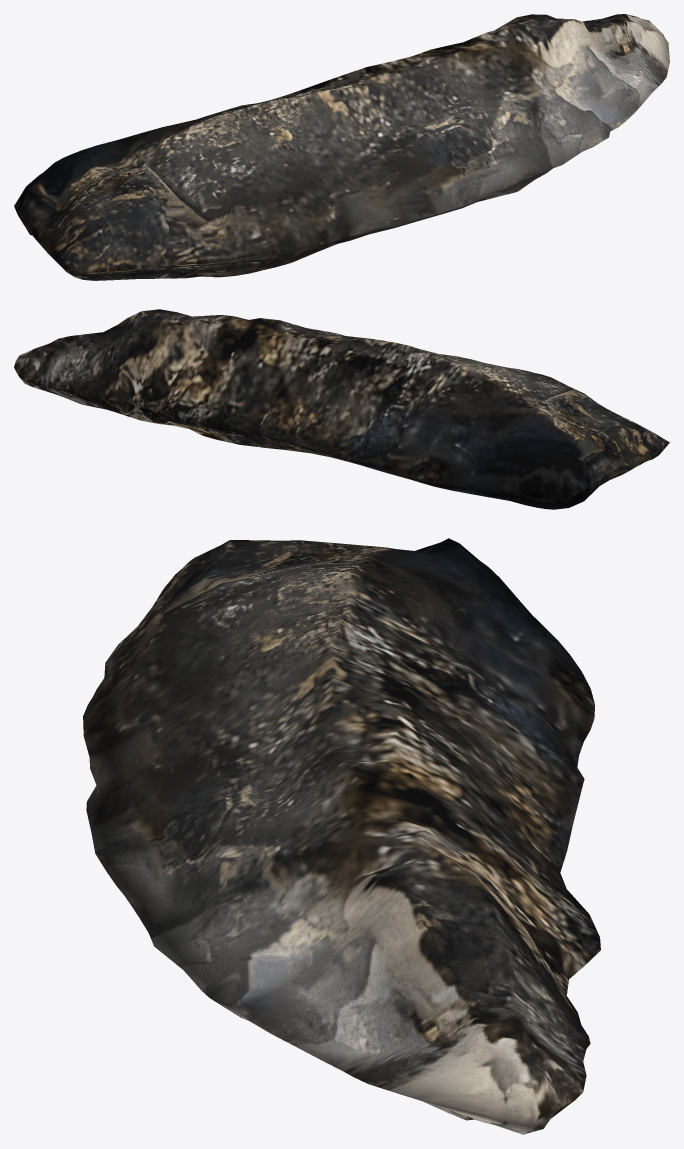
File: modello3D.gltf
The picture shows the model from 3 angles, top to bottom: view 1: azimuth 30°, elevation 25°; view 2: azimuth 150°, elevation 25°; view 3: azimuth 270°, elevation 25°; orthographic projection. The views are drawn at different scales.
Visible parts, largest first — view 1: pietra1; view 2: pietra1; view 3: pietra1.
Boxes of the visible parts, x1,y1,x2,y2 form: pietra1: (14, 14, 669, 280); pietra1: (14, 309, 669, 509); pietra1: (83, 538, 600, 1134).
Size of the model in its own units: 0.1842 by 0.035 by 0.0717.
Materials: 1 (1 with a texture image).
